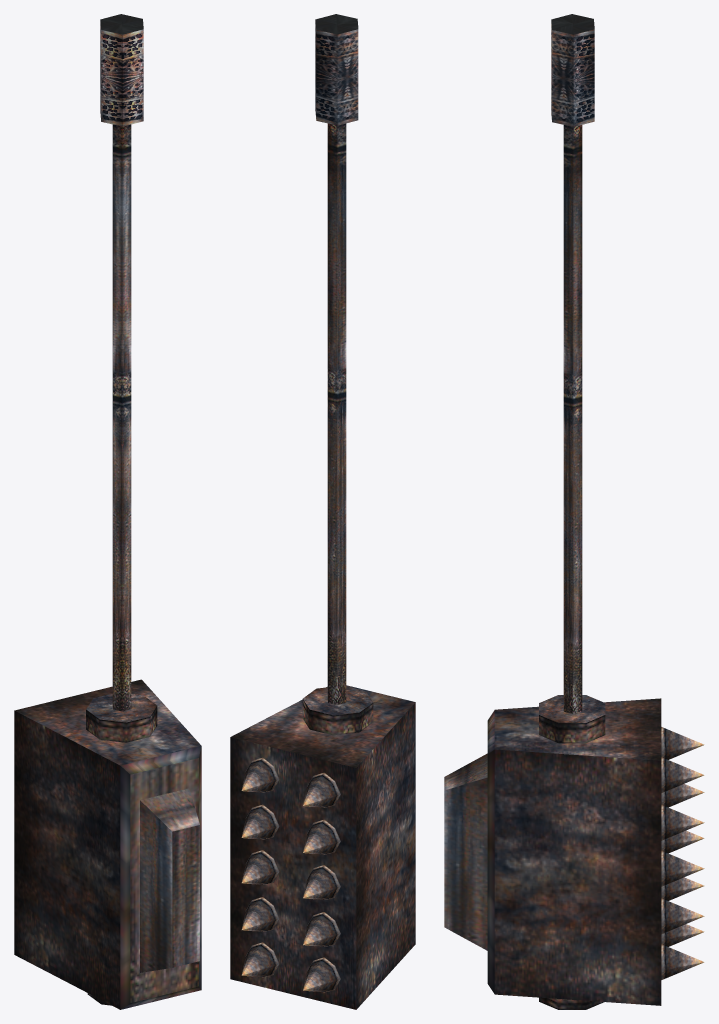
File: DurahanHummer.fbx
3 renders of one model, left to right at view 1: azimuth 30°, elevation 25°; view 2: azimuth 150°, elevation 25°; view 3: azimuth 270°, elevation 25°, orthographic.
Visible parts, largest first — view 1: Mesh_AddOn_Weapon_002.001; view 2: Mesh_AddOn_Weapon_002.001; view 3: Mesh_AddOn_Weapon_002.001.
Part boxes in pixels (x1,y1,x2,y2): Mesh_AddOn_Weapon_002.001: [14, 14, 201, 1009]; Mesh_AddOn_Weapon_002.001: [230, 14, 415, 1009]; Mesh_AddOn_Weapon_002.001: [444, 14, 704, 1009].
Bounding box in the file's own units: 41.39 × 301 × 73.15.
